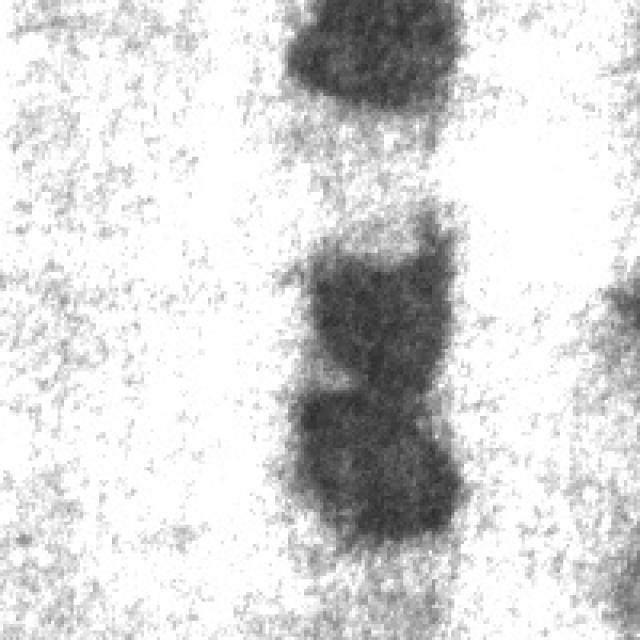patches: (278, 227, 464, 544), (278, 0, 461, 106)
